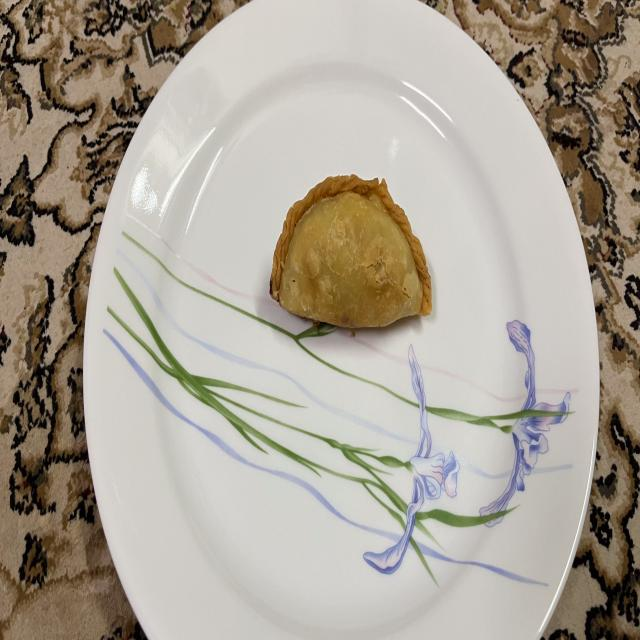karipap: (270, 176, 432, 331)
